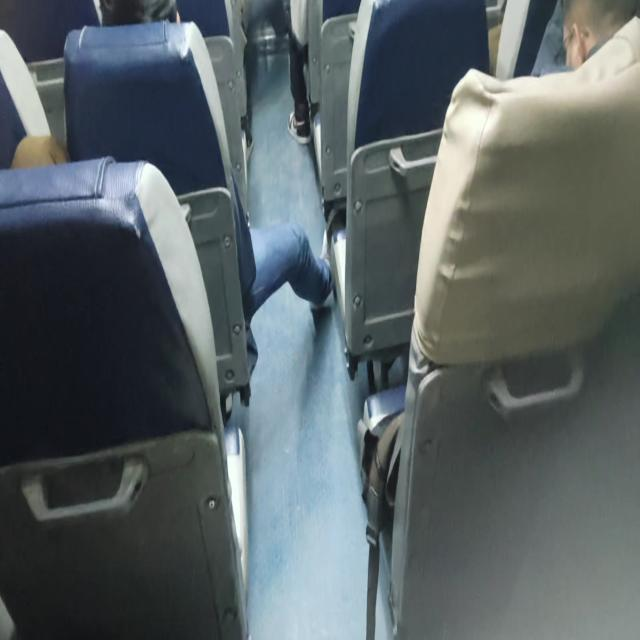person: (11, 18, 334, 404), (230, 170, 334, 405), (560, 0, 638, 71), (286, 0, 312, 145), (10, 133, 70, 169), (98, 0, 180, 26)
